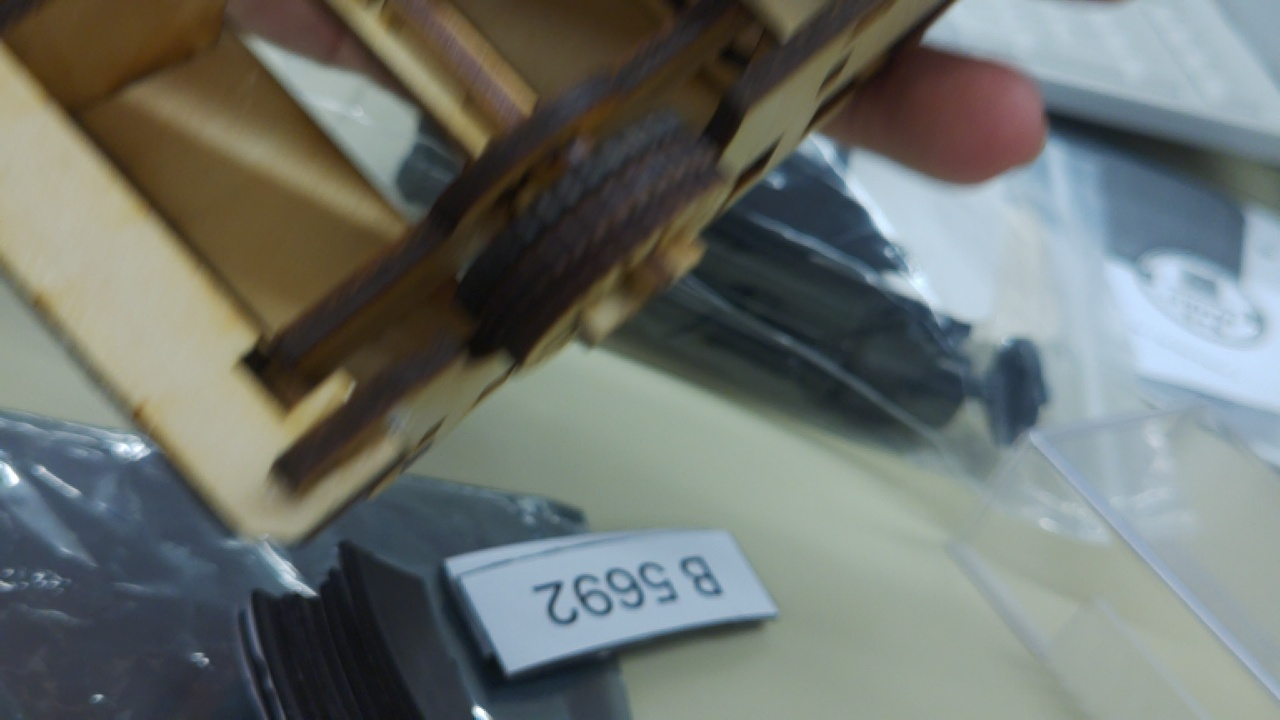license_plate: (450, 521, 785, 680)
